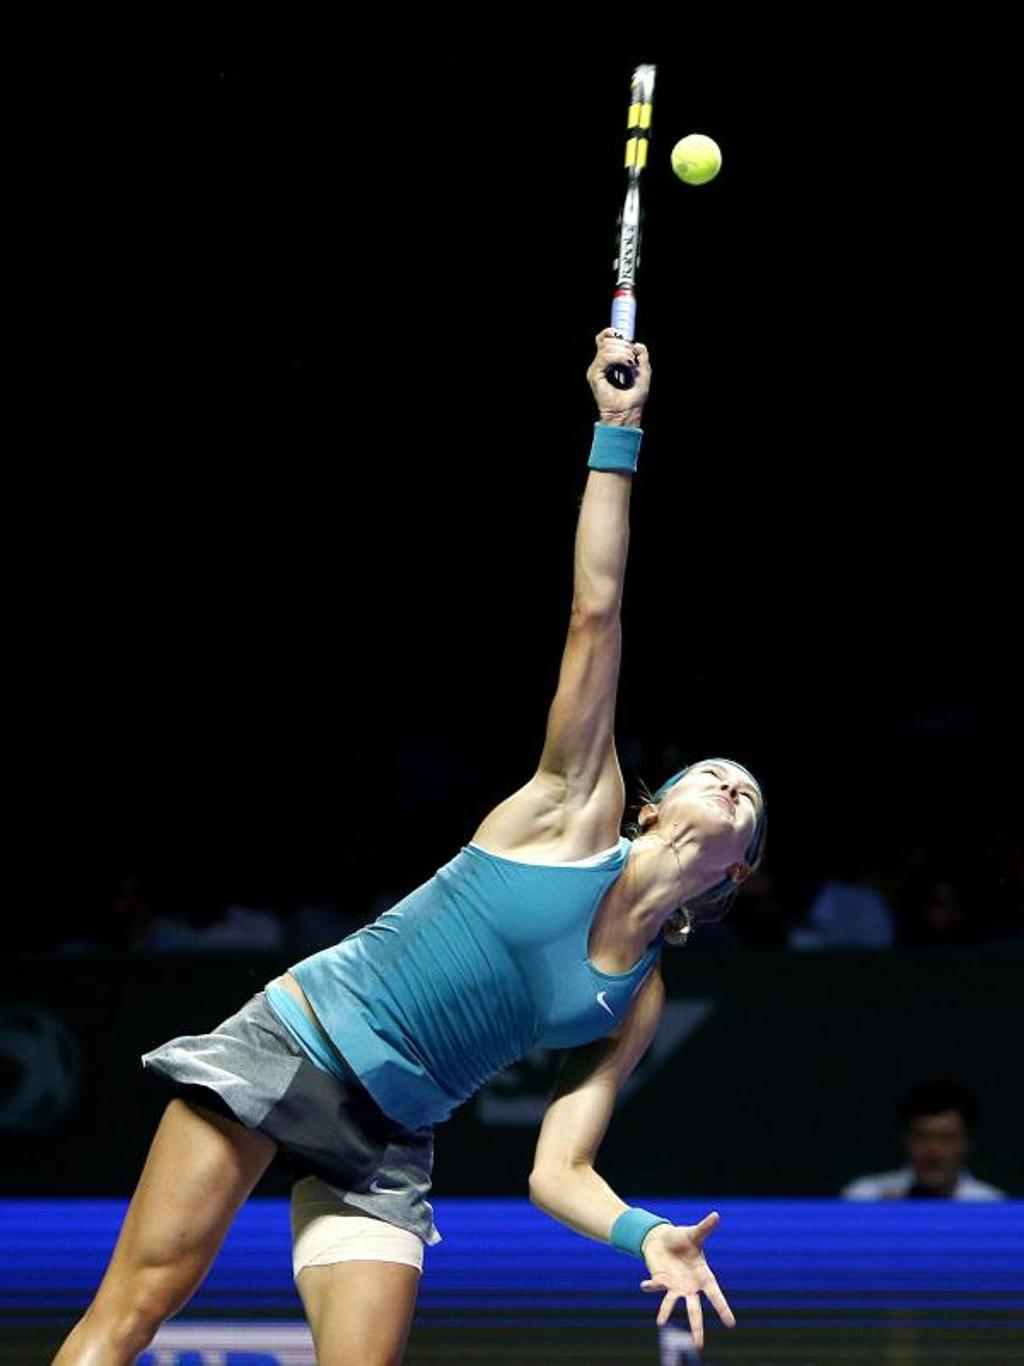face: (683, 755, 766, 851)
